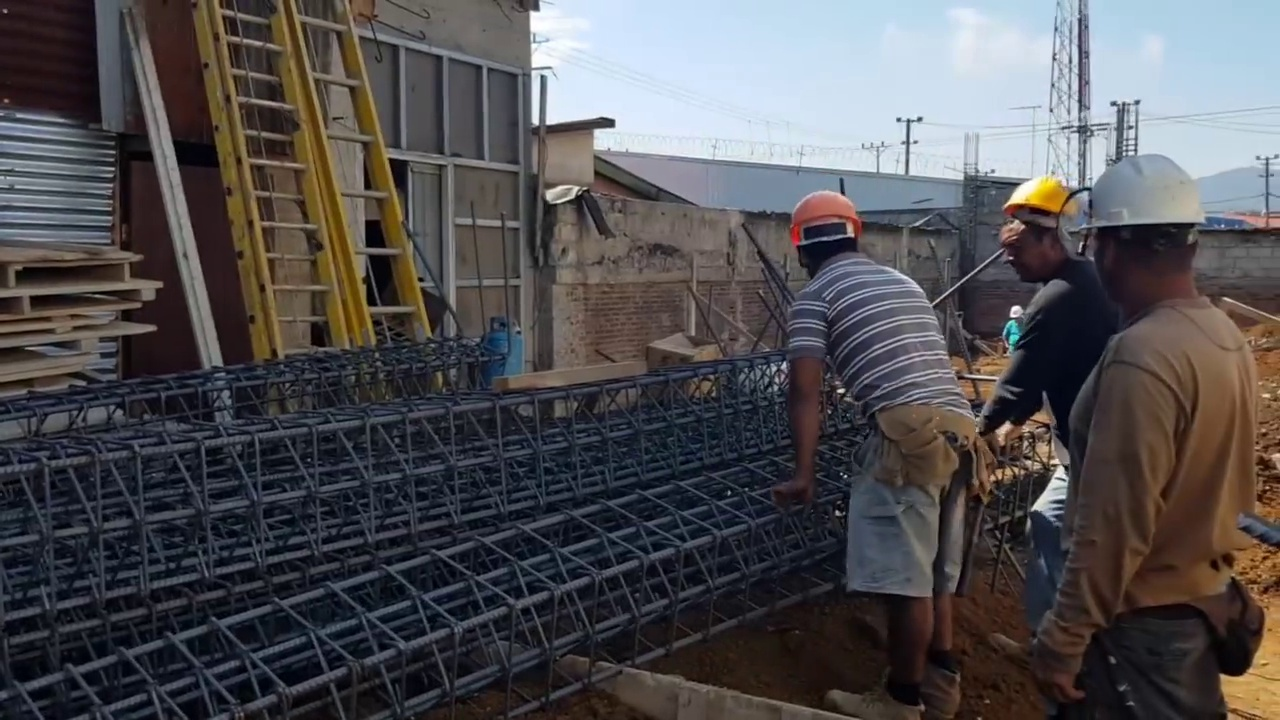helmet: (1092, 151, 1215, 237), (790, 191, 870, 253), (1003, 181, 1080, 227), (1008, 306, 1025, 319)
helmet-on: (1090, 153, 1214, 310), (1002, 182, 1080, 285), (790, 189, 867, 281), (1008, 306, 1026, 327)
person: (758, 189, 992, 666), (1012, 179, 1207, 691), (978, 174, 1108, 468), (999, 305, 1028, 356)
